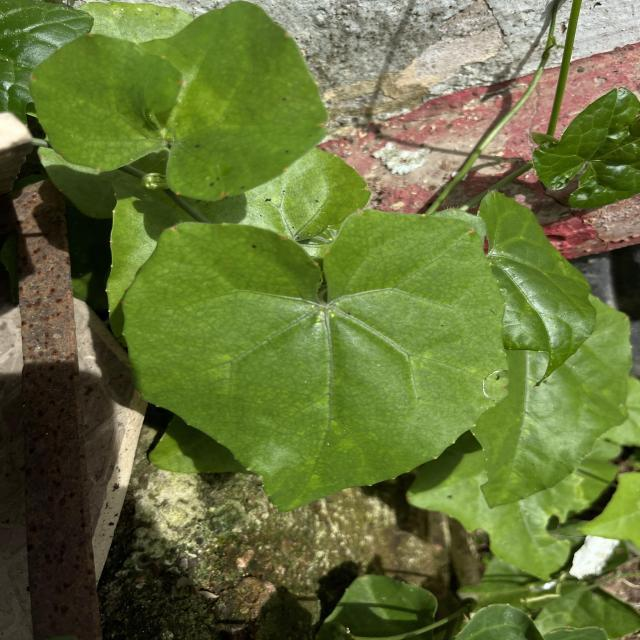Coccinia grandis: (116, 206, 516, 516)
